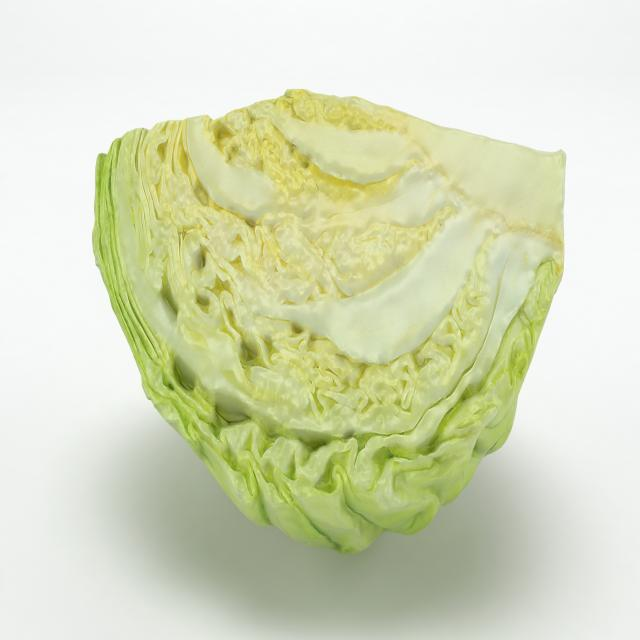haft-cabbage: (87, 90, 572, 552)
